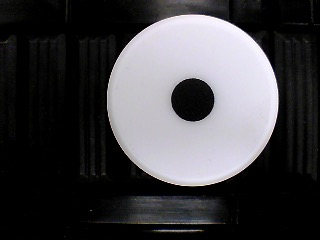BOHO: (106, 14, 279, 187)
